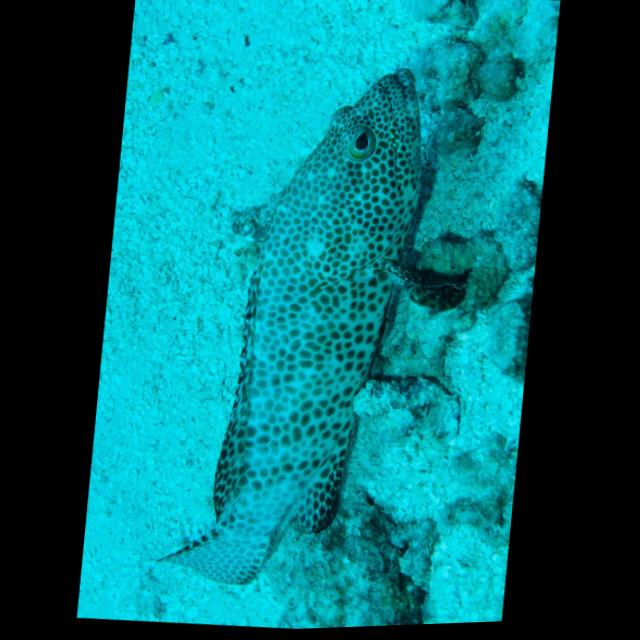Groupers: (153, 36, 491, 611)
